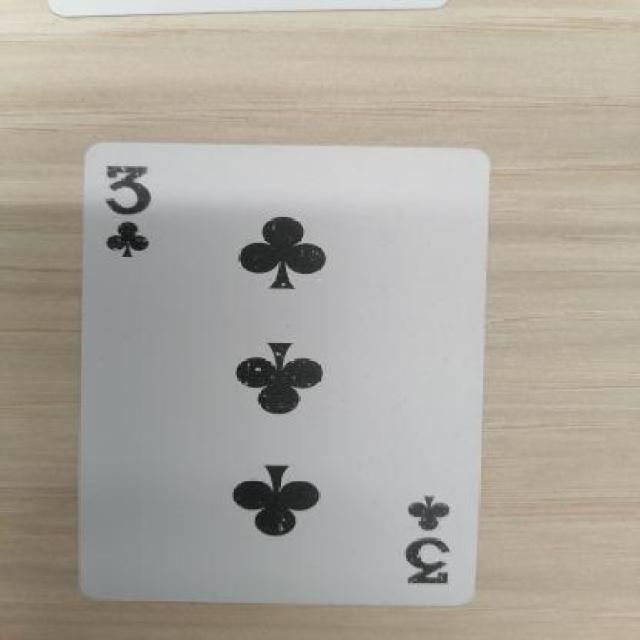3C: (396, 467, 472, 607), (102, 158, 188, 274)
